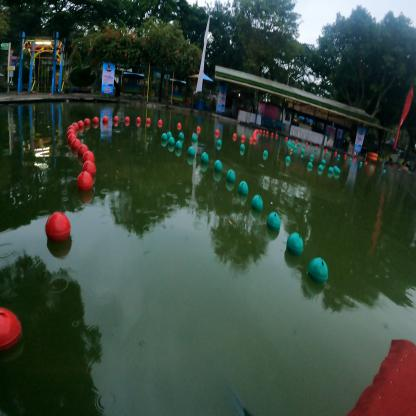green_buoy: (308, 257, 328, 284), (286, 232, 304, 256), (266, 210, 281, 233), (250, 195, 264, 213), (238, 180, 249, 196), (226, 168, 236, 183), (200, 152, 209, 165), (214, 160, 223, 172), (175, 140, 183, 151), (188, 146, 195, 158), (161, 132, 168, 142), (178, 132, 184, 142), (192, 134, 198, 144), (169, 136, 175, 146), (166, 131, 173, 139), (318, 164, 324, 173), (335, 166, 340, 176), (307, 161, 313, 169), (328, 166, 333, 175), (285, 156, 291, 163), (240, 143, 245, 151), (263, 149, 268, 157), (321, 158, 326, 166), (217, 140, 222, 146), (333, 166, 338, 172), (310, 154, 314, 161)
red_buoy: (0, 307, 24, 354), (44, 211, 71, 242), (77, 172, 93, 194), (82, 160, 95, 176), (83, 150, 95, 163), (78, 144, 89, 158), (72, 138, 81, 150), (68, 134, 77, 144), (67, 129, 75, 138), (68, 124, 75, 134), (92, 117, 99, 125), (78, 120, 84, 129), (102, 116, 108, 124), (84, 118, 90, 126), (72, 122, 78, 130), (114, 115, 119, 124), (136, 116, 142, 123), (125, 115, 130, 122), (146, 117, 151, 124), (158, 119, 162, 125), (197, 126, 201, 132), (233, 132, 237, 138), (177, 123, 181, 128), (241, 135, 245, 140), (216, 128, 219, 134)
